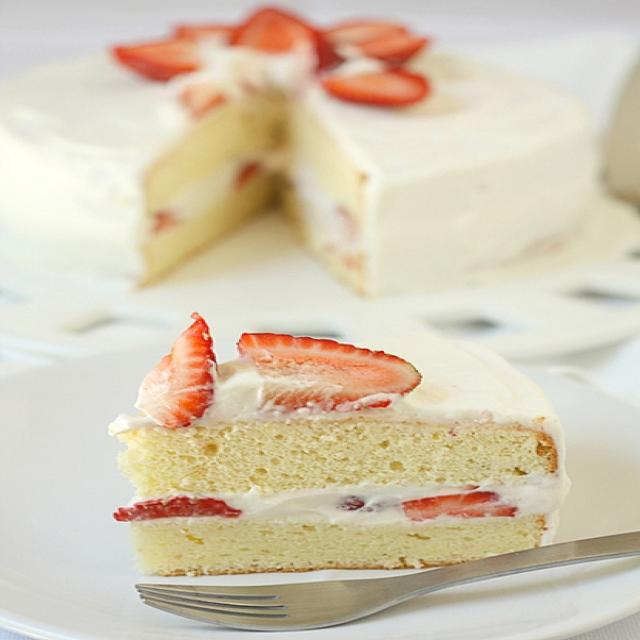蛋糕甜品: (75, 274, 580, 607)
